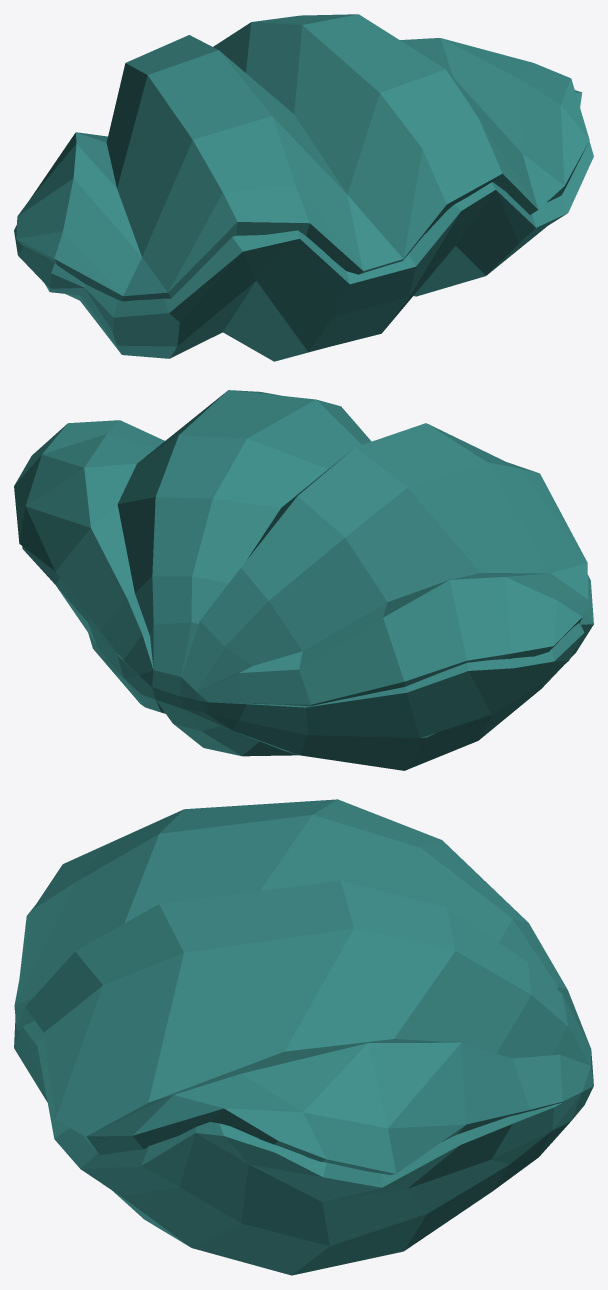
File: SM_Sea_Shell_Giant_Closed_B.fbx
3 views of the same model, one above another, from view 1: azimuth 30°, elevation 25°; view 2: azimuth 150°, elevation 25°; view 3: azimuth 270°, elevation 25° (orthographic). The views are drawn at different scales.
Parts seen in each view (by area): view 1: sea-shell-giant-closed-b; view 2: sea-shell-giant-closed-b; view 3: sea-shell-giant-closed-b.
Boxes of the visible parts, x1,y1,x2,y2 form: sea-shell-giant-closed-b: (14,14,593,361); sea-shell-giant-closed-b: (14,390,593,770); sea-shell-giant-closed-b: (14,799,593,1275).
Bounding box in the file's own units: 0.7392 × 0.3876 × 0.5584.
